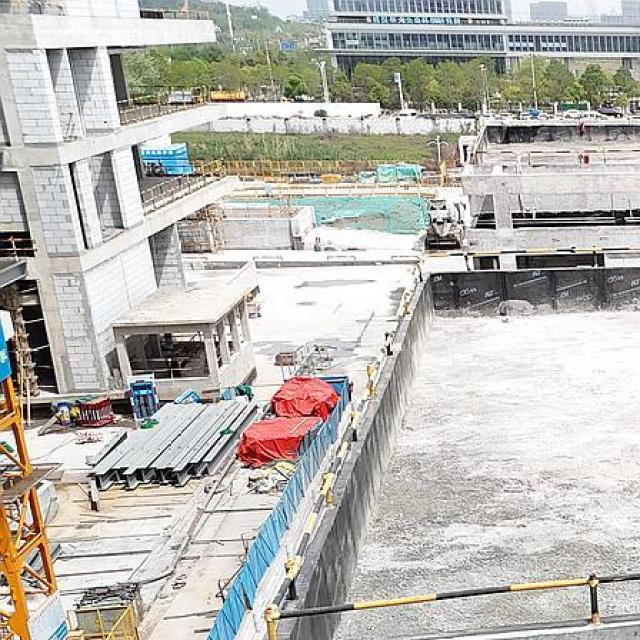edge_guardrail: (260, 244, 640, 640), (470, 122, 640, 167), (139, 156, 228, 217), (117, 84, 206, 125), (128, 356, 208, 379), (0, 236, 37, 258), (140, 10, 210, 20)
